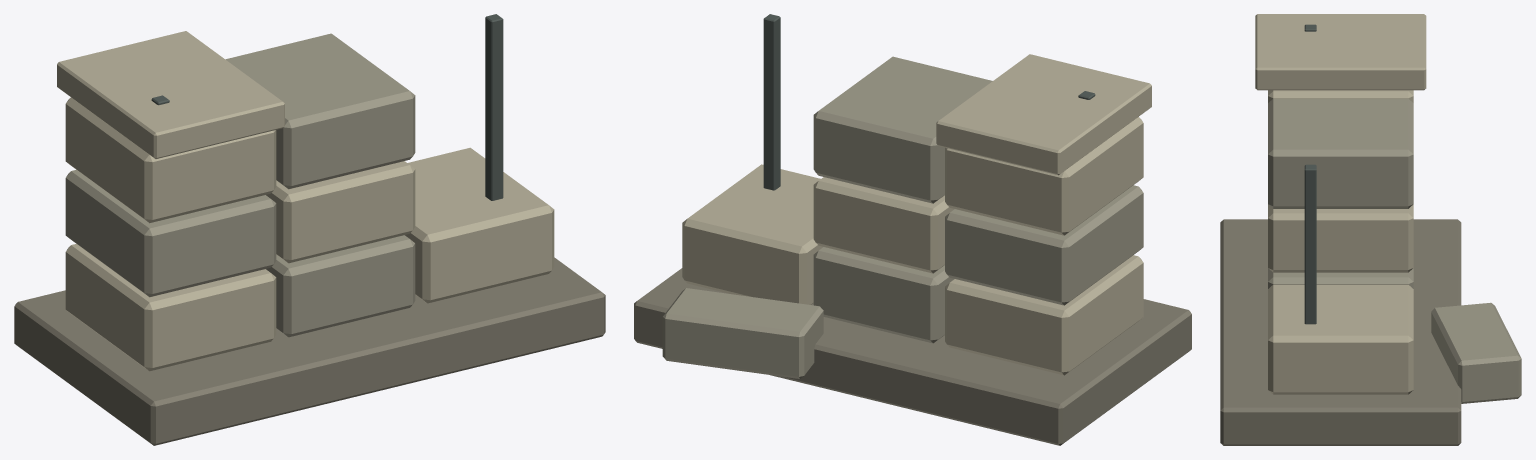
Rendered from warm_ruin_2.glb.
The picture shows the model from 3 angles, left to right: view 1: azimuth 30°, elevation 25°; view 2: azimuth 150°, elevation 25°; view 3: azimuth 270°, elevation 25°; orthographic projection. The views are drawn at different scales.
Visible parts, largest first — view 1: ruin_2_sample_stone_light, ruin_2_sample_stone, ruin_2_sample_stone_dark, ruin_2_sample_iron; view 2: ruin_2_sample_stone_light, ruin_2_sample_stone, ruin_2_sample_stone_dark, ruin_2_sample_iron; view 3: ruin_2_sample_stone_light, ruin_2_sample_stone_dark, ruin_2_sample_stone, ruin_2_sample_iron.
Boxes of the visible parts, bbox=[...] form: ruin_2_sample_stone_light: bbox=[57, 31, 554, 371]; ruin_2_sample_stone: bbox=[65, 33, 415, 337]; ruin_2_sample_stone_dark: bbox=[14, 257, 605, 445]; ruin_2_sample_iron: bbox=[151, 14, 503, 200]; ruin_2_sample_stone_light: bbox=[682, 54, 1151, 375]; ruin_2_sample_stone: bbox=[662, 56, 1143, 378]; ruin_2_sample_stone_dark: bbox=[634, 268, 1191, 445]; ruin_2_sample_iron: bbox=[763, 14, 1095, 190]; ruin_2_sample_stone_light: bbox=[1255, 14, 1426, 394]; ruin_2_sample_stone_dark: bbox=[1220, 219, 1461, 445]; ruin_2_sample_stone: bbox=[1268, 98, 1521, 403]; ruin_2_sample_iron: bbox=[1304, 24, 1316, 324].
Bounding box in the file's own units: 0.9 × 0.56 × 0.6001.
